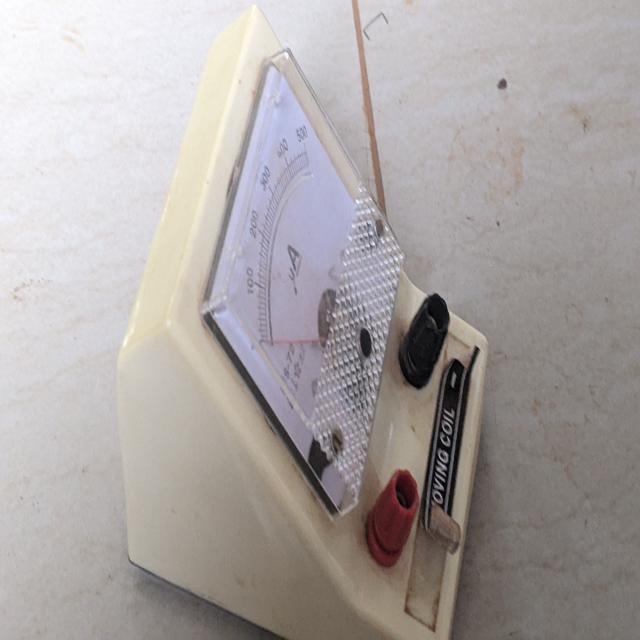Ammeter Analog: (118, 17, 488, 640)
